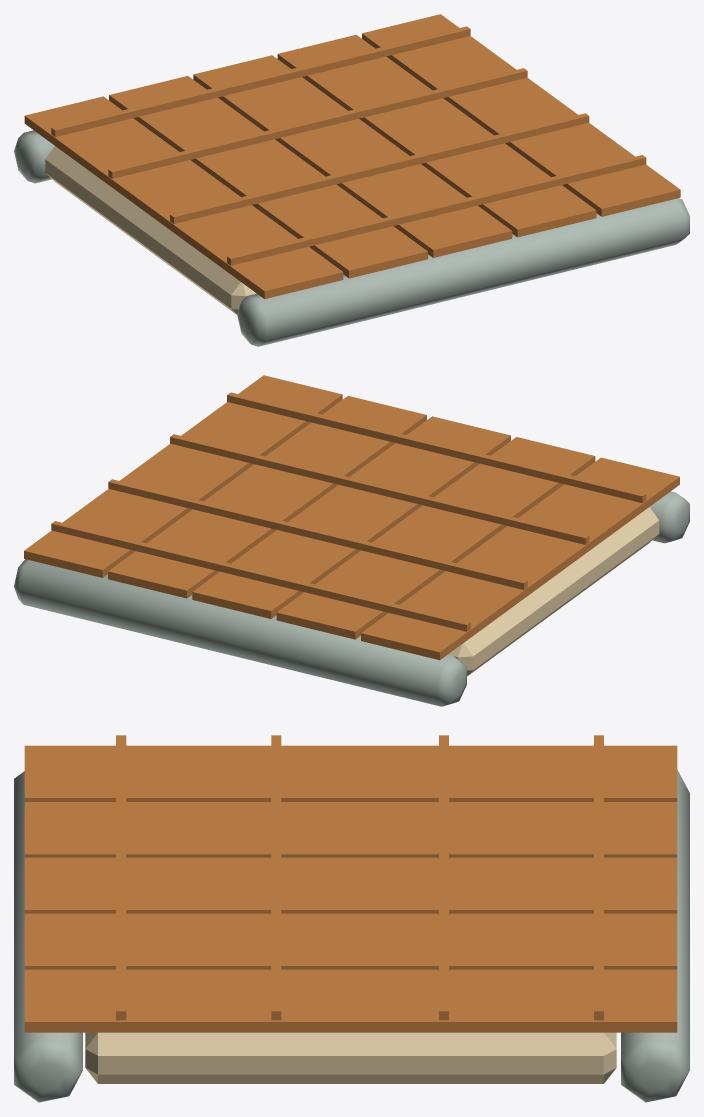
Rendered from ikada.fbx.
The picture shows the model from 3 angles, top to bottom: view 1: azimuth 30°, elevation 25°; view 2: azimuth 150°, elevation 25°; view 3: azimuth 270°, elevation 25°; orthographic projection. The views are drawn at different scales.
Parts seen in each view (by area): view 1: Cube; view 2: Cube; view 3: Cube.
Part boxes in pixels (x1,y1,x2,y2): Cube: (14,14,689,346); Cube: (14,375,689,706); Cube: (14,735,689,1102).
Size of the model in its own units: 1109 by 161 by 1091.
